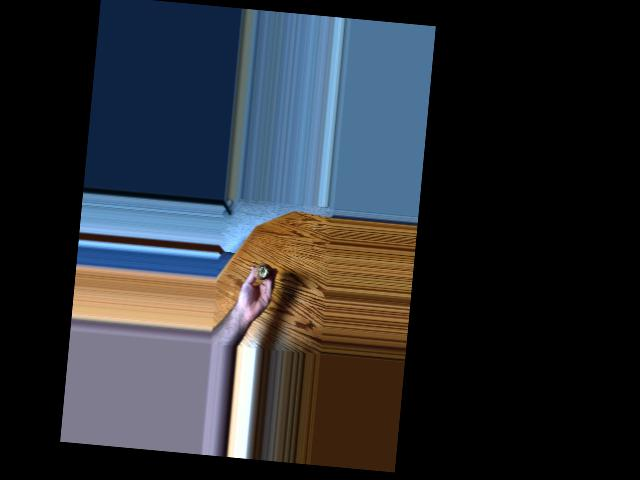sweet_potato: (251, 258, 270, 281)
